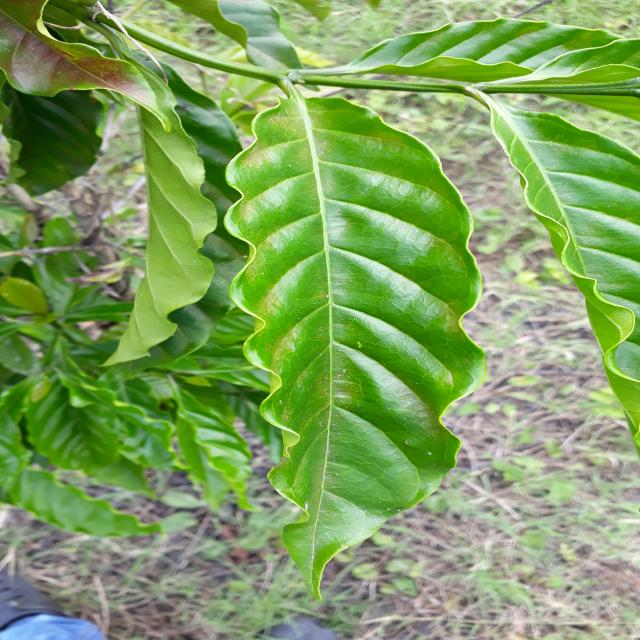Sanas: (224, 91, 486, 600)
